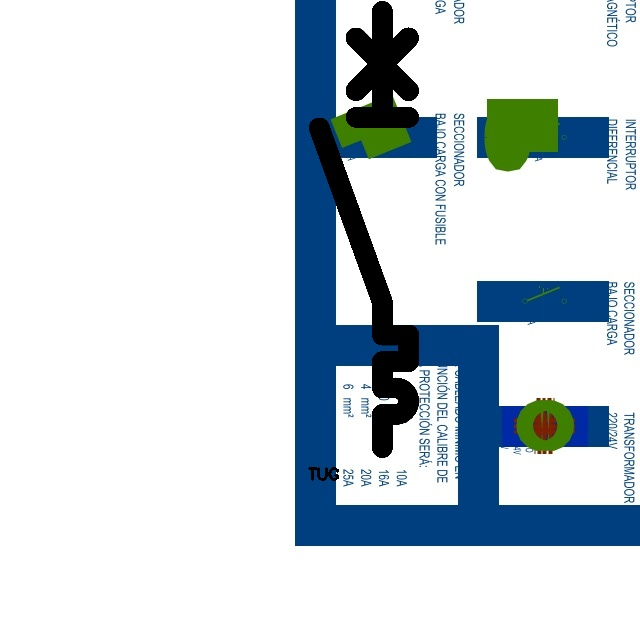interruptor_termomagnetico: (308, 0, 420, 459)
